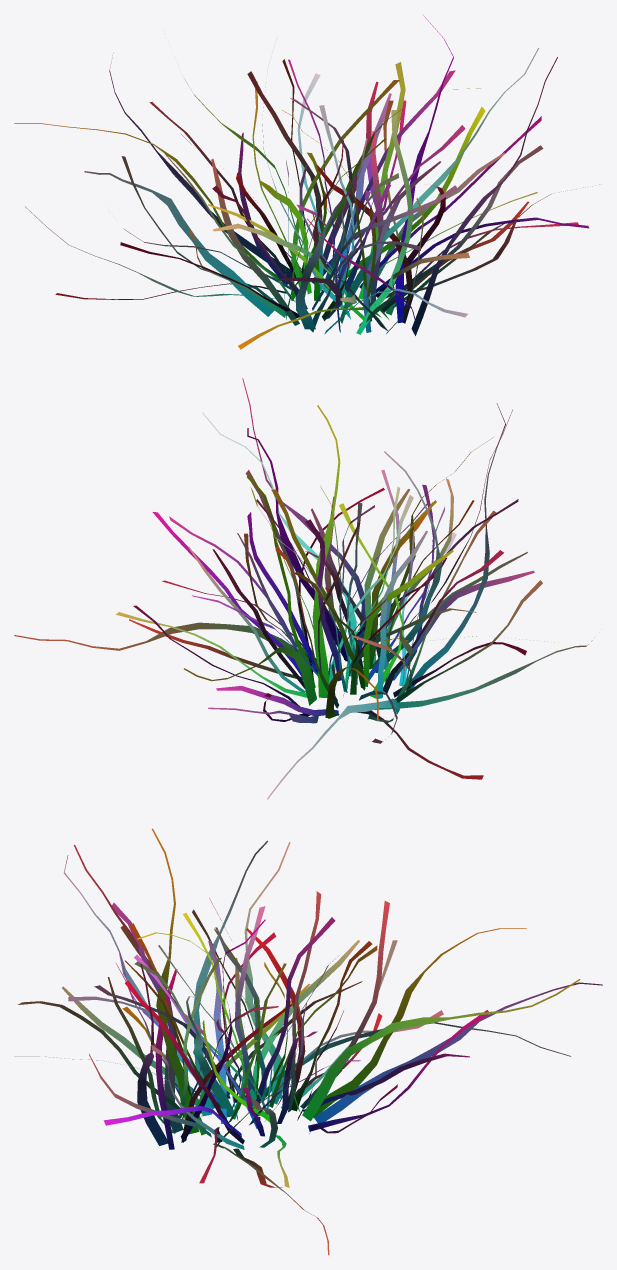
Rendered from Wild_Grass_vlkhcbxia_High_vlkhcbxia_VarE_LOD0.fbx.
3 renders of one model, top to bottom at view 1: azimuth 30°, elevation 25°; view 2: azimuth 150°, elevation 25°; view 3: azimuth 270°, elevation 25°, orthographic. The views are drawn at different scales.
Visible parts, largest first — view 1: _ihh8_VarE_LOD0; view 2: _ihh8_VarE_LOD0; view 3: _ihh8_VarE_LOD0.
Boxes of the visible parts, <box> form: _ihh8_VarE_LOD0: <box>14,15,599,349</box>; _ihh8_VarE_LOD0: <box>14,378,594,799</box>; _ihh8_VarE_LOD0: <box>14,828,602,1255</box>.
Size of the model in its own units: 40.58 by 18.14 by 36.04.
